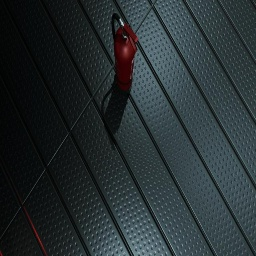FireExtinguisher ]: (111, 13, 139, 94)
